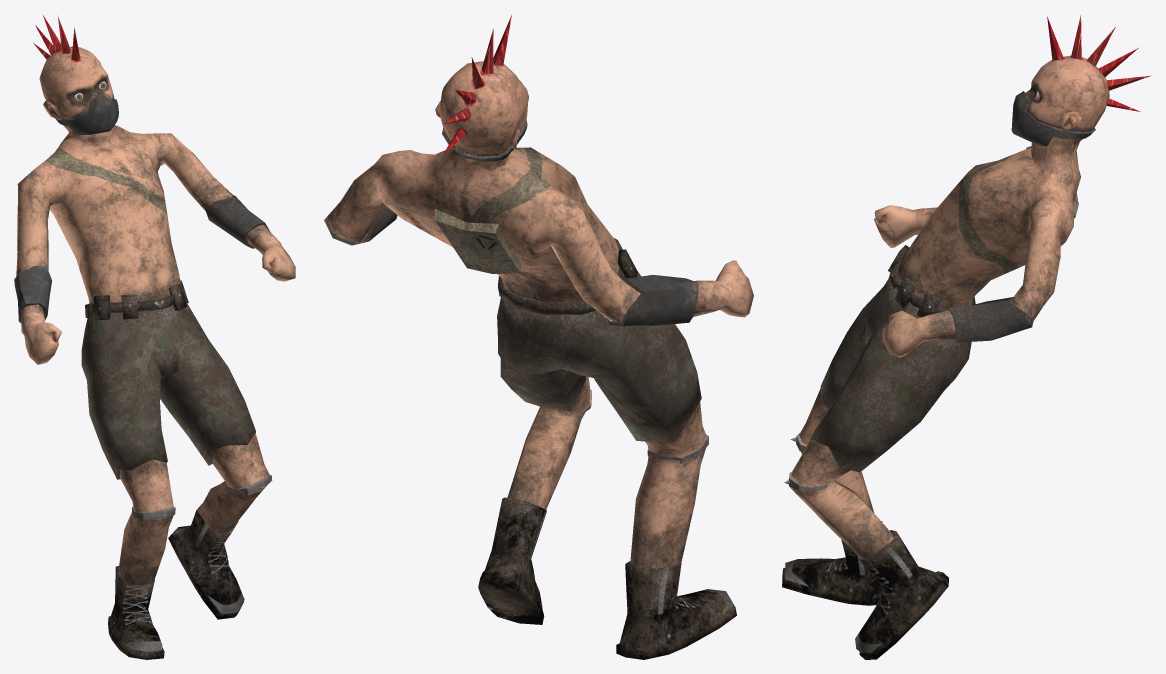
The model's file is Anim_morir_1_npc2.0026.obj.
3 renders of one model, left to right at view 1: azimuth 30°, elevation 25°; view 2: azimuth 150°, elevation 25°; view 3: azimuth 270°, elevation 25°, orthographic. The views are drawn at different scales.
Visible parts, largest first — view 1: polySurface1; view 2: polySurface1; view 3: polySurface1.
Boxes of the visible parts, left/top/right/bottom form: polySurface1: left=14, top=15, right=295, bottom=659; polySurface1: left=324, top=15, right=753, bottom=659; polySurface1: left=782, top=15, right=1150, bottom=659.
Size of the model in its own units: 4.58 by 8.98 by 4.98.
